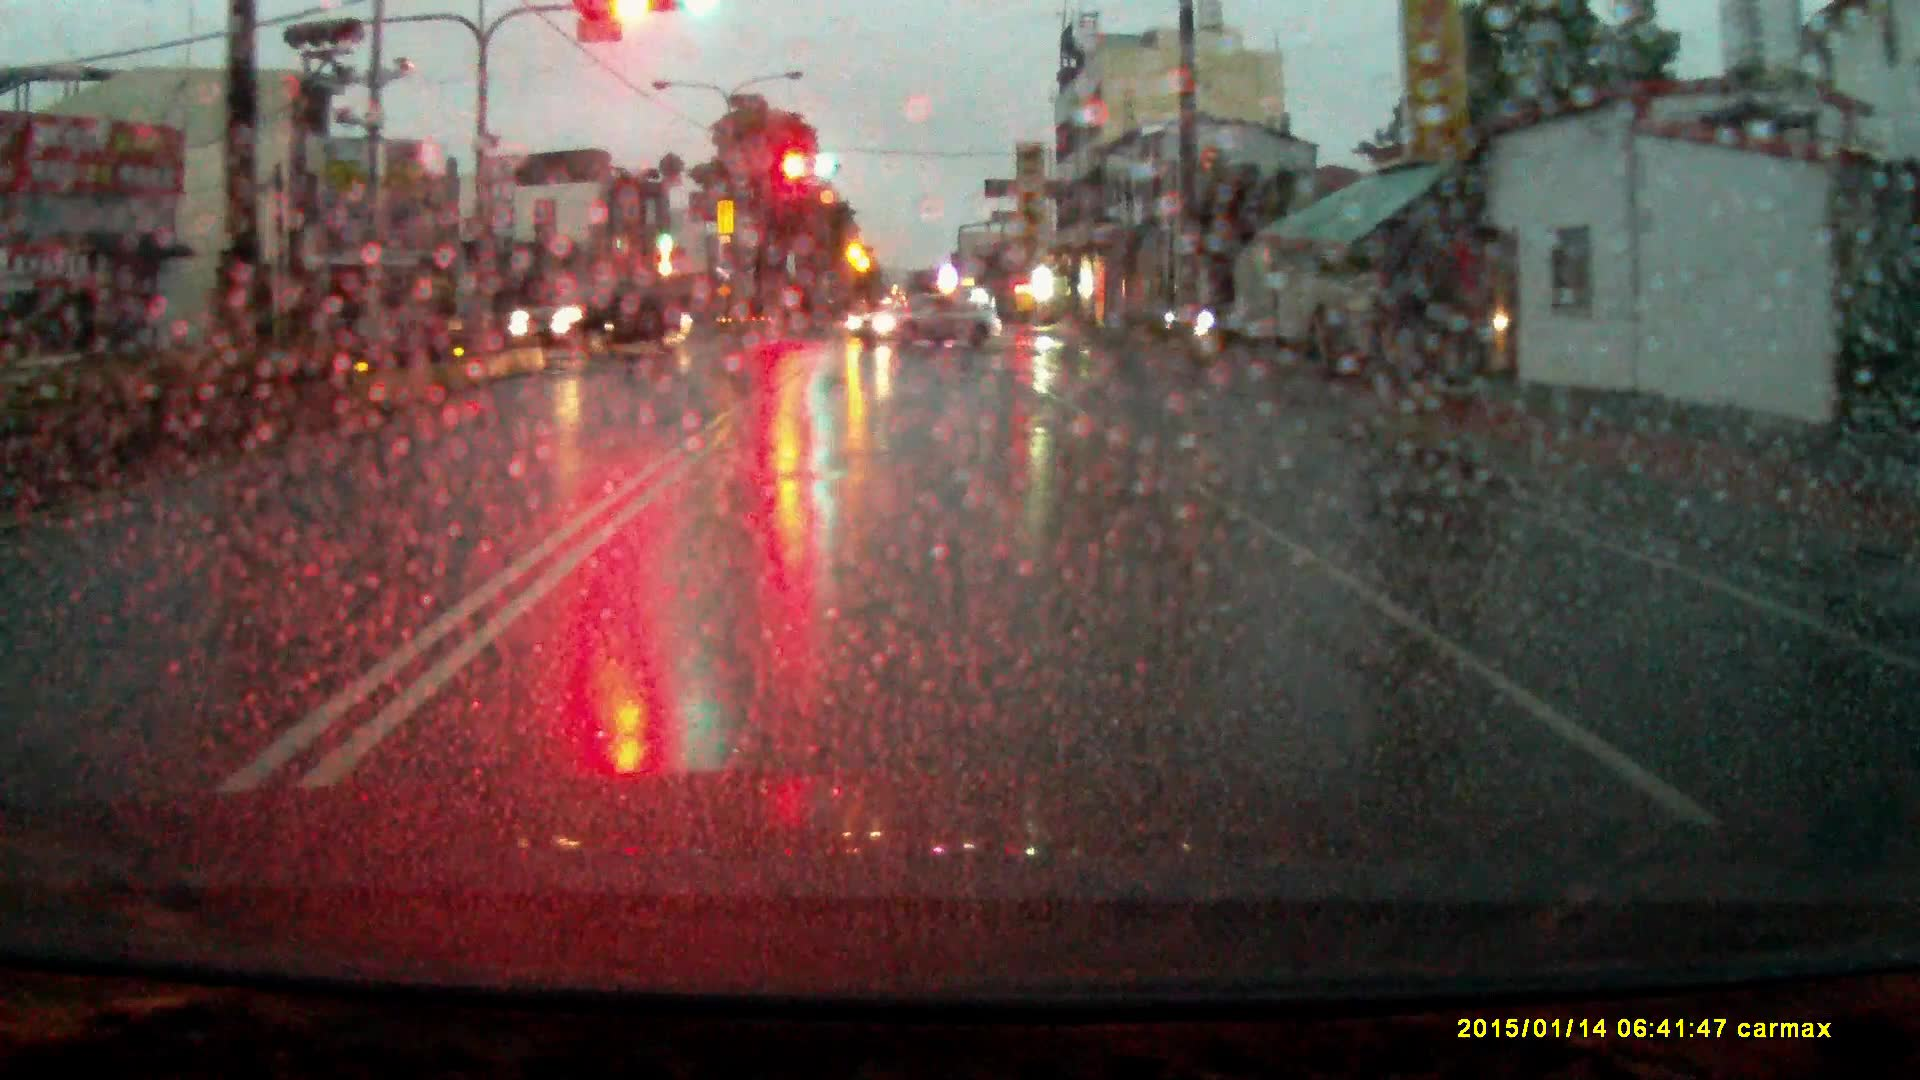vehicle: (509, 276, 695, 361), (849, 287, 1004, 348)
